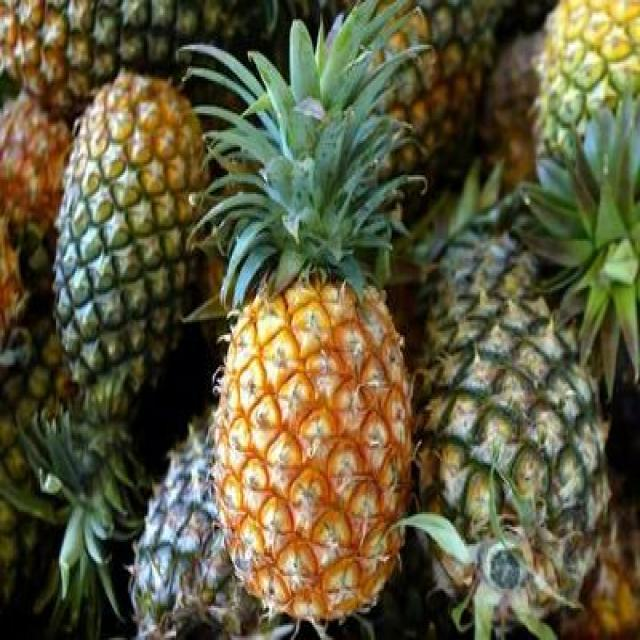pineapple: (209, 177, 413, 621), (416, 248, 619, 637), (53, 66, 206, 480), (180, 51, 182, 52)
